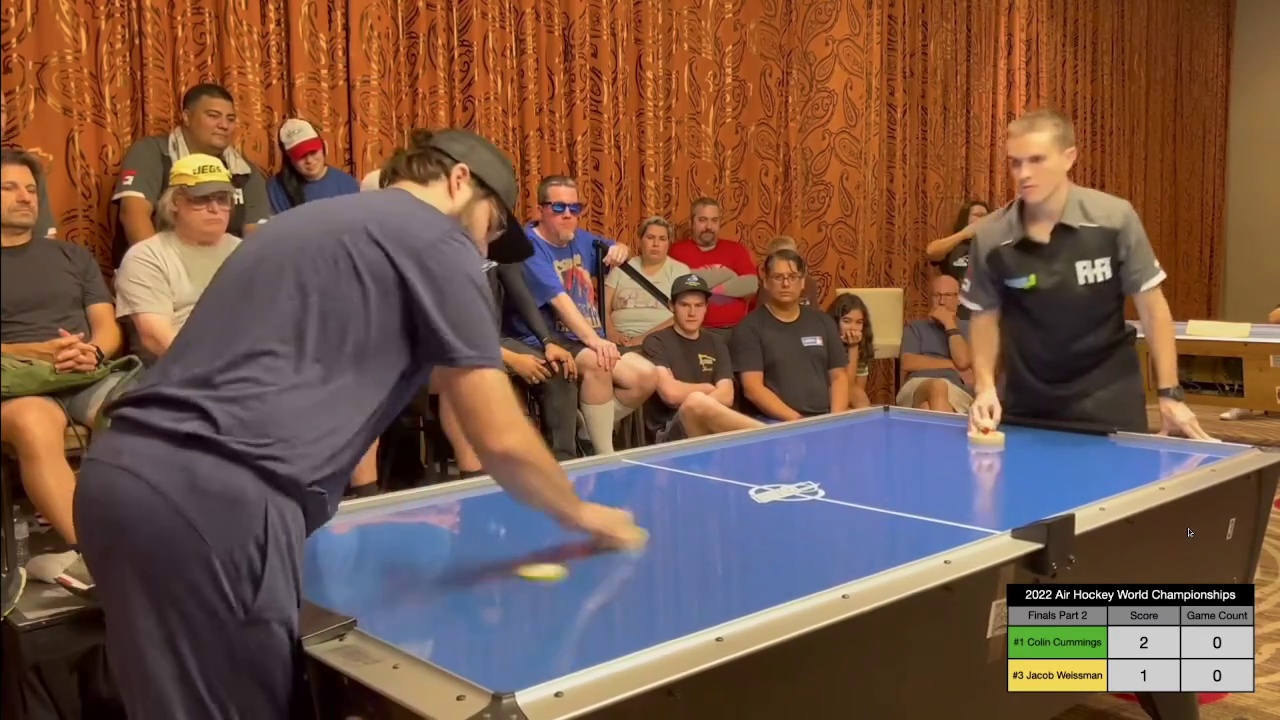player: (599, 508, 652, 550), (964, 417, 1008, 450)
puck: (516, 561, 568, 583)
table: (213, 407, 1280, 697)
